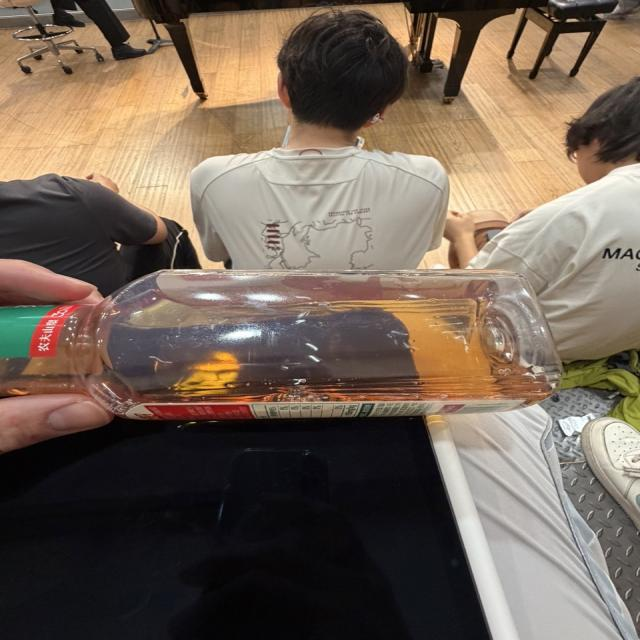medium: (0, 270, 560, 420)
